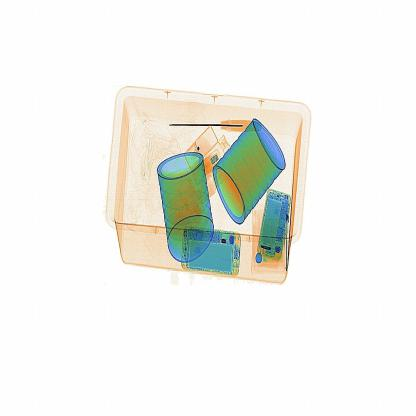wrench: (163, 107, 264, 144)
